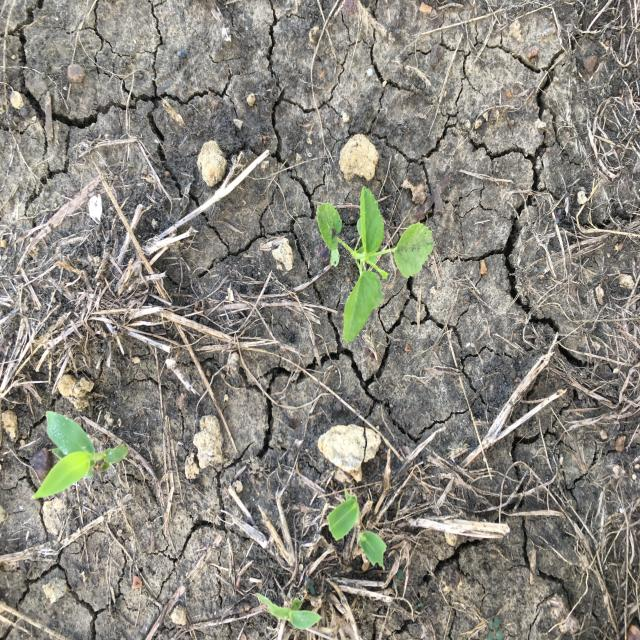PricklySida: (314, 184, 436, 348)
